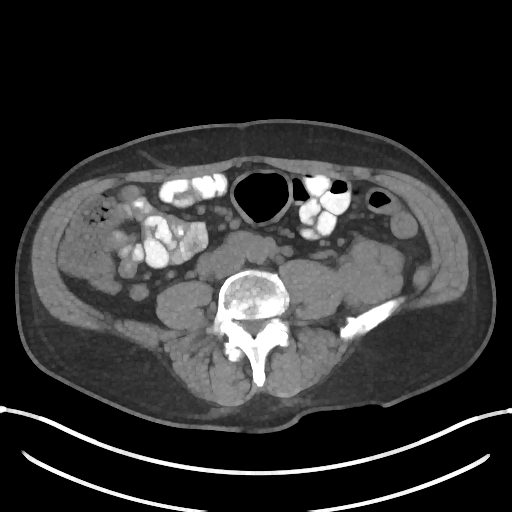Lesion: (334, 228, 408, 309)
